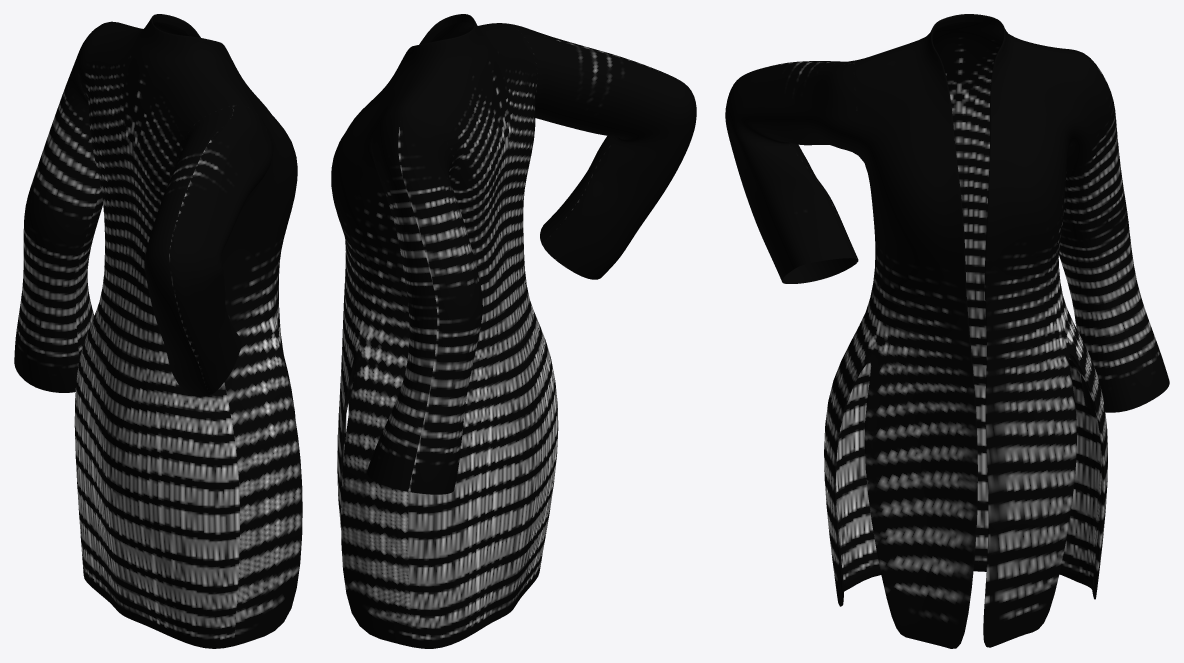
The model's file is outer.obj.
The picture shows the model from 3 angles, left to right: view 1: azimuth 30°, elevation 25°; view 2: azimuth 150°, elevation 25°; view 3: azimuth 270°, elevation 25°; orthographic projection.
Parts seen in each view (by area): view 1: Plane.339; view 2: Plane.339; view 3: Plane.339.
Boxes of the visible parts, x1=… form: Plane.339: x1=14, y1=14, x2=302, y2=648; Plane.339: x1=331, y1=14, x2=696, y2=648; Plane.339: x1=725, y1=14, x2=1169, y2=648.
Bounding box in the file's own units: 0.3762 × 0.8668 × 0.6002.
